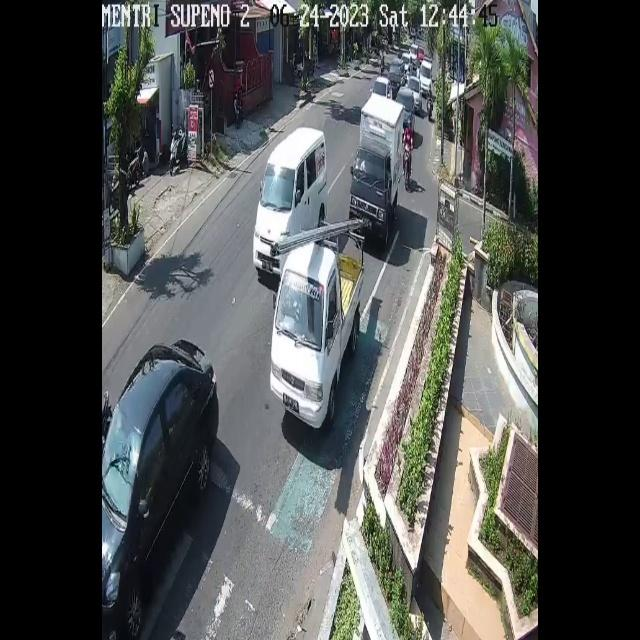bus: (404, 144, 414, 192)
motorcycle: (101, 339, 219, 640), (254, 126, 328, 278), (399, 87, 417, 131), (372, 75, 393, 104), (418, 58, 434, 95), (389, 60, 406, 93), (406, 76, 420, 112)
truck: (268, 222, 363, 427), (348, 92, 403, 244)
